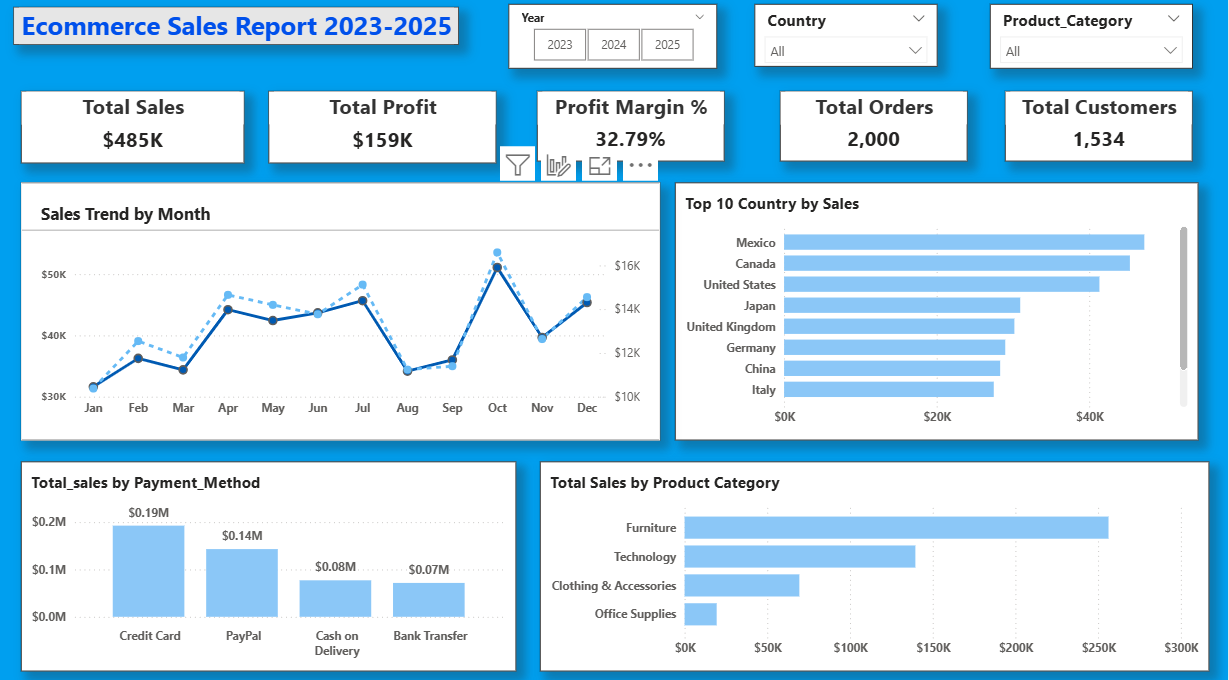

The dashboard page shown, as its layout file describes it:
{"tool":"powerbi","page":{"name":"Executive Overview","canvas":[1280,720],"ordinal":0},"visuals":[{"type":"card","title":"Total Sales","fields":{"Values":["Measure.Total_sales"]},"box":[21.9,103.2,232.9,75],"z":0},{"type":"textbox","title":"Ecommerce Sales Report 2023-2025","box":[14.1,15.6,464.2,39.1],"z":1000},{"type":"card","title":"Total Profit","fields":{"Values":["Measure.Total_profit"]},"box":[279.8,103.2,237.6,75],"z":2000},{"type":"card","title":"Profit Margin %","fields":{"Values":["Measure.Profit Margin %"]},"box":[559.5,103.2,195.4,73.5],"z":3000},{"type":"card","title":"Total Orders","fields":{"Values":["Measure.Total_orders"]},"box":[812.8,103.2,195.4,73.5],"z":4000},{"type":"card","title":"Total Customers","fields":{"Values":["Measure.Total_customer"]},"box":[1047.2,103.2,195.4,73.5],"z":5000},{"type":"barChart","title":"Top 10 Country by Sales","fields":{"Category":["DIM_Geography.Country"],"Y":["Measure.Total_sales"]},"box":[703.3,198.5,545.5,268.8],"z":6000},{"type":"clusteredBarChart","title":"Total Sales by Product Category","fields":{"Category":["DIM_Product.Product_Category"],"Y":["Measure.Total_sales"]},"box":[562.7,489.2,697.1,218.8],"z":7000},{"type":"clusteredColumnChart","fields":{"Category":["DIM_Payment.Payment_Method"],"Y":["Measure.Total_sales"]},"box":[21.9,489.2,515.8,218.8],"z":8000},{"type":"slicer","fields":{"Values":["Dim_Calender.Year"]},"box":[529.9,12.5,217.3,67.2],"z":9000},{"type":"slicer","fields":{"Values":["DIM_Geography.Country"]},"box":[786.2,12.5,190.7,65.6],"z":10000},{"type":"slicer","fields":{"Values":["DIM_Product.Product_Category"]},"box":[1031.6,12.5,211,67.2],"z":11000},{"type":"lineChart","title":"Sales Trend by Month","fields":{"Y":["Measure.Total_sales"],"Category":["Dim_Calender.Month"],"Y2":["Measure.Total_profit"]},"box":[21.9,198.5,665.8,268.8],"z":12000}]}

Visuals, with their boxes in screenshot pixels (x1, y1, x2, y2), scaled from the page's 1280x720 canvas onto the 1229x680 screenshot:
"Total Sales" card: x1=21, y1=97, x2=245, y2=168
"Ecommerce Sales Report 2023-2025" textbox: x1=14, y1=15, x2=459, y2=52
"Total Profit" card: x1=269, y1=97, x2=497, y2=168
"Profit Margin %" card: x1=537, y1=97, x2=725, y2=167
"Total Orders" card: x1=780, y1=97, x2=968, y2=167
"Total Customers" card: x1=1005, y1=97, x2=1193, y2=167
"Top 10 Country by Sales" barChart: x1=675, y1=187, x2=1199, y2=441
"Total Sales by Product Category" clusteredBarChart: x1=540, y1=462, x2=1210, y2=669
clusteredColumnChart - DIM_Payment.Payment_Method x Measure.Total_sales: x1=21, y1=462, x2=516, y2=669
slicer - Dim_Calender.Year: x1=509, y1=12, x2=717, y2=75
slicer - DIM_Geography.Country: x1=755, y1=12, x2=938, y2=74
slicer - DIM_Product.Product_Category: x1=990, y1=12, x2=1193, y2=75
"Sales Trend by Month" lineChart: x1=21, y1=187, x2=660, y2=441
